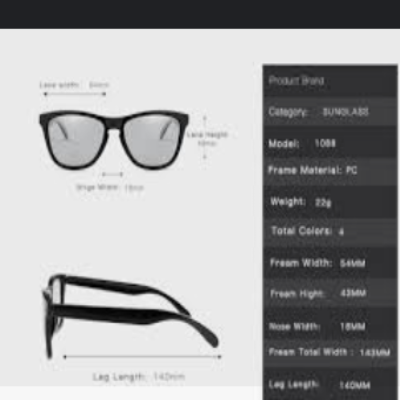glasses: (28, 273, 239, 368), (37, 103, 197, 193)
